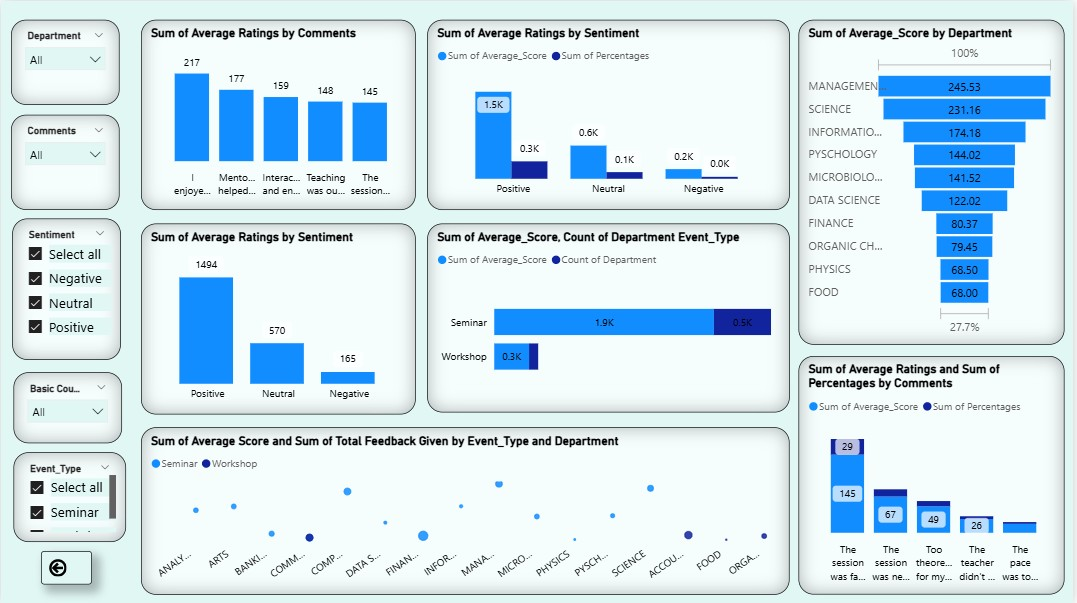

This screenshot's page, from the dashboard's own definition file:
{"tool":"powerbi","page":{"name":"Dashboard2","canvas":[1280,720],"ordinal":1},"visuals":[{"type":"clusteredColumnChart","title":"Sum of Average Ratings by Comments","fields":{"Category":["Cleaned_Student_Satisfaction_Surveys.Comments"],"Y":["Sum(Cleaned_Student_Satisfaction_Surveys.Average_Score)"]},"box":[167.2,22.4,328.4,226.9],"z":0},{"type":"lineClusteredColumnComboChart","title":"Sum of Average Ratings by Sentiment","fields":{"Category":["Cleaned_Student_Satisfaction_Surveys.Sentiment"],"Y":["Sum(Cleaned_Student_Satisfaction_Surveys.Average_Score)"]},"box":[167.2,265.7,328.4,228.4],"z":1000},{"type":"lineStackedColumnComboChart","title":"Sum of Average Ratings and Sum of Percentages by Comments","fields":{"Category":["Cleaned_Student_Satisfaction_Surveys.Comments"],"Y":["Sum(Cleaned_Student_Satisfaction_Surveys.Average_Score)","Sum(Cleaned_Student_Satisfaction_Surveys.Percentages)"]},"box":[952.2,423.9,317.9,285.1],"z":2000},{"type":"lineClusteredColumnComboChart","title":"Sum of Average Ratings by Sentiment","fields":{"Category":["Cleaned_Student_Satisfaction_Surveys.Sentiment"],"Y":["Sum(Cleaned_Student_Satisfaction_Surveys.Average_Score)","Sum(Cleaned_Student_Satisfaction_Surveys.Percentages)"]},"box":[509,22.4,432.8,226.9],"z":3000},{"type":"funnel","title":"Sum of Average_Score by Department","fields":{"Category":["Cleaned_Student_Satisfaction_Surveys.Department"],"Y":["Sum(Cleaned_Student_Satisfaction_Surveys.Average_Score)"]},"box":[952.2,22.4,317.9,388.1],"z":4000},{"type":"barChart","title":"Sum of Average_Score, Count of Department Event_Type","fields":{"Y":["Sum(Cleaned_Student_Satisfaction_Surveys.Average_Score)","CountNonNull(Cleaned_Student_Satisfaction_Surveys.Department)"],"Category":["Cleaned_Student_Satisfaction_Surveys.Event_Type"]},"box":[509,265.7,432.8,225.4],"z":5000},{"type":"scatterChart","title":"Sum of Average Score and Sum of Total Feedback Given by Event_Type and Department","fields":{"X":["Cleaned_Student_Satisfaction_Surveys.Department"],"Y":["Sum(Cleaned_Student_Satisfaction_Surveys.Average_Score)"],"Series":["Cleaned_Student_Satisfaction_Surveys.Event_Type"],"Size":["Sum(Cleaned_Student_Satisfaction_Surveys.Total Feedback Given)"]},"box":[167.2,509,774.6,200],"z":6000},{"type":"slicer","fields":{"Values":["Cleaned_Student_Satisfaction_Surveys.Department"]},"box":[11.9,22.4,129.9,101.5],"z":7000},{"type":"slicer","fields":{"Values":["Cleaned_Student_Satisfaction_Surveys.Sentiment"]},"box":[13.4,259.7,129.9,168.7],"z":8000},{"type":"slicer","fields":{"Values":["Cleaned_Student_Satisfaction_Surveys.Basic Course"]},"box":[14.9,443.3,129.9,85.1],"z":9000},{"type":"slicer","fields":{"Values":["Cleaned_Student_Satisfaction_Surveys.Comments"]},"box":[11.9,135.8,129.9,113.4],"z":10000},{"type":"slicer","fields":{"Values":["Cleaned_Student_Satisfaction_Surveys.Event_Type"]},"box":[14.9,538.8,134.3,107.5],"z":11000},{"type":"actionButton","box":[47.8,656.7,61.2,40.3],"z":11001}]}

Visuals, with their boxes in screenshot pixels (x1, y1, x2, y2), scaled from the page's 1280x720 canvas onto the 1077x603 screenshot:
"Sum of Average Ratings by Comments" clusteredColumnChart: <bbox>141, 19, 417, 209</bbox>
"Sum of Average Ratings by Sentiment" lineClusteredColumnComboChart: <bbox>141, 223, 417, 414</bbox>
"Sum of Average Ratings and Sum of Percentages by Comments" lineStackedColumnComboChart: <bbox>801, 355, 1069, 594</bbox>
"Sum of Average Ratings by Sentiment" lineClusteredColumnComboChart: <bbox>428, 19, 792, 209</bbox>
"Sum of Average_Score by Department" funnel: <bbox>801, 19, 1069, 344</bbox>
"Sum of Average_Score, Count of Department Event_Type" barChart: <bbox>428, 223, 792, 411</bbox>
"Sum of Average Score and Sum of Total Feedback Given by Event_Type and Department" scatterChart: <bbox>141, 426, 792, 594</bbox>
slicer - Cleaned_Student_Satisfaction_Surveys.Department: <bbox>10, 19, 119, 104</bbox>
slicer - Cleaned_Student_Satisfaction_Surveys.Sentiment: <bbox>11, 217, 121, 359</bbox>
slicer - Cleaned_Student_Satisfaction_Surveys.Basic Course: <bbox>13, 371, 122, 443</bbox>
slicer - Cleaned_Student_Satisfaction_Surveys.Comments: <bbox>10, 114, 119, 209</bbox>
slicer - Cleaned_Student_Satisfaction_Surveys.Event_Type: <bbox>13, 451, 126, 541</bbox>
actionButton: <bbox>40, 550, 92, 584</bbox>
